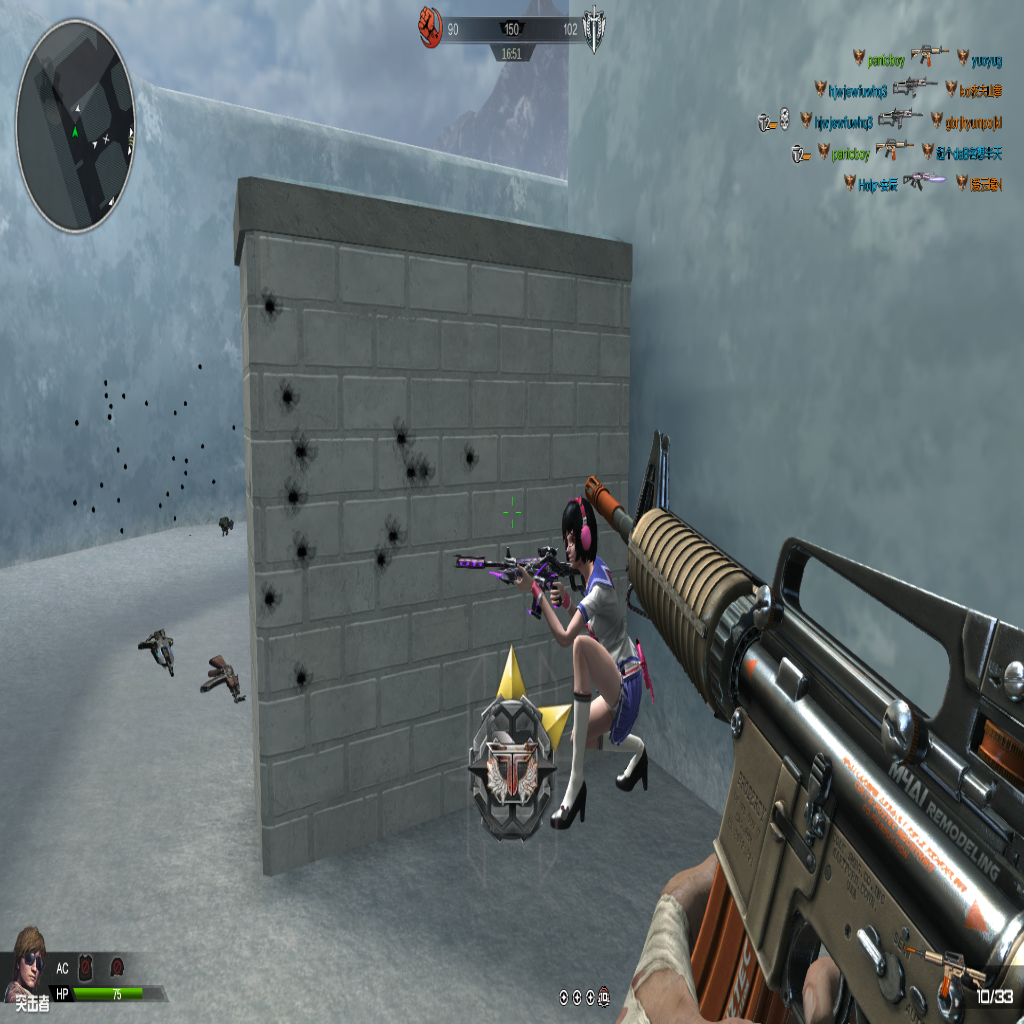tt: (530, 474, 659, 832)
